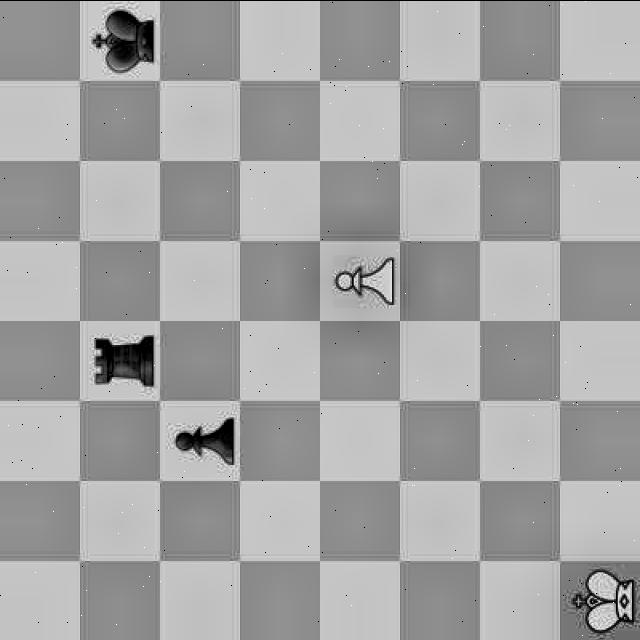black king: (75, 2, 159, 80)
black pawn: (163, 404, 241, 476)
black rook: (82, 324, 154, 398)
white king: (563, 563, 640, 640)
white pawn: (323, 243, 398, 316)
